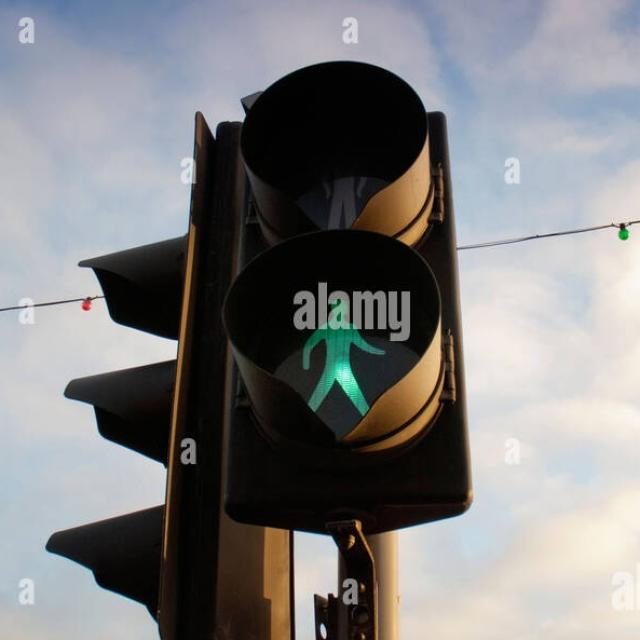green_light: (280, 266, 380, 449)
